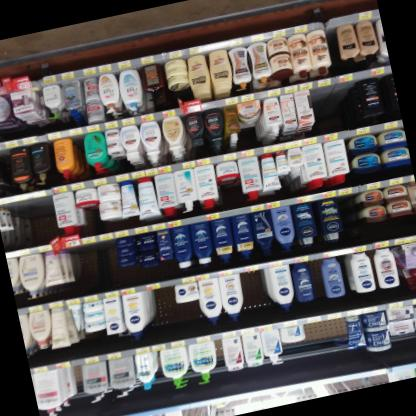empty_space: (308, 76, 357, 132), (74, 239, 124, 287), (305, 315, 351, 358), (18, 194, 57, 243), (150, 282, 182, 330), (240, 267, 271, 313), (340, 193, 361, 233), (306, 259, 326, 300)
